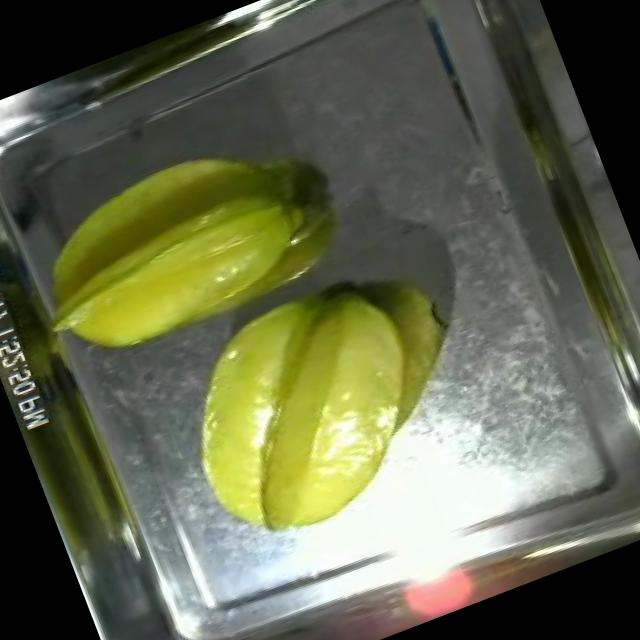fruit: (138, 246, 476, 574), (0, 106, 347, 390)
